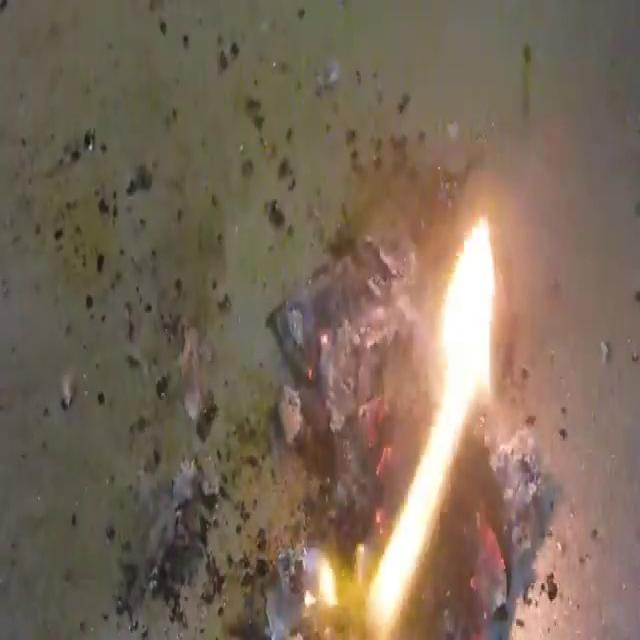Fire: (296, 134, 522, 640)
